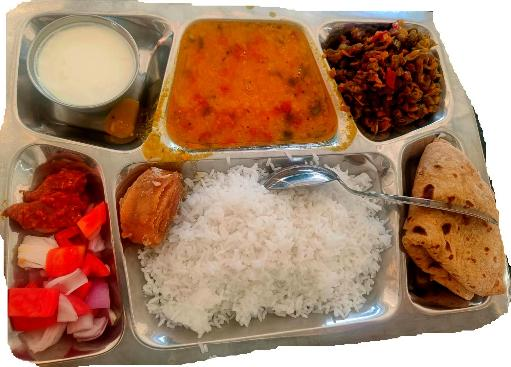Curd: (22, 19, 161, 106)
Dal: (175, 22, 331, 151)
Pickle: (4, 169, 84, 224)
Rice: (139, 160, 396, 336)
Roti: (405, 148, 511, 304)
Salad: (7, 243, 114, 356)
Sweet: (116, 164, 183, 246)
Vegetable: (337, 20, 443, 131)
